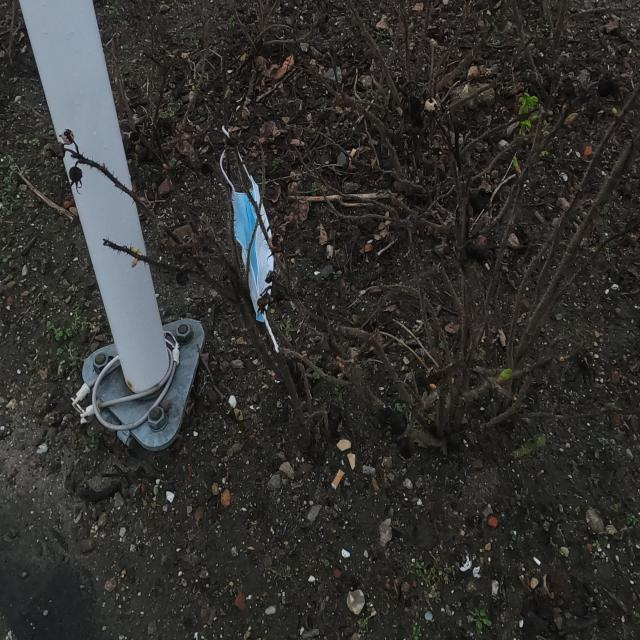Mask: (218, 127, 286, 339)
